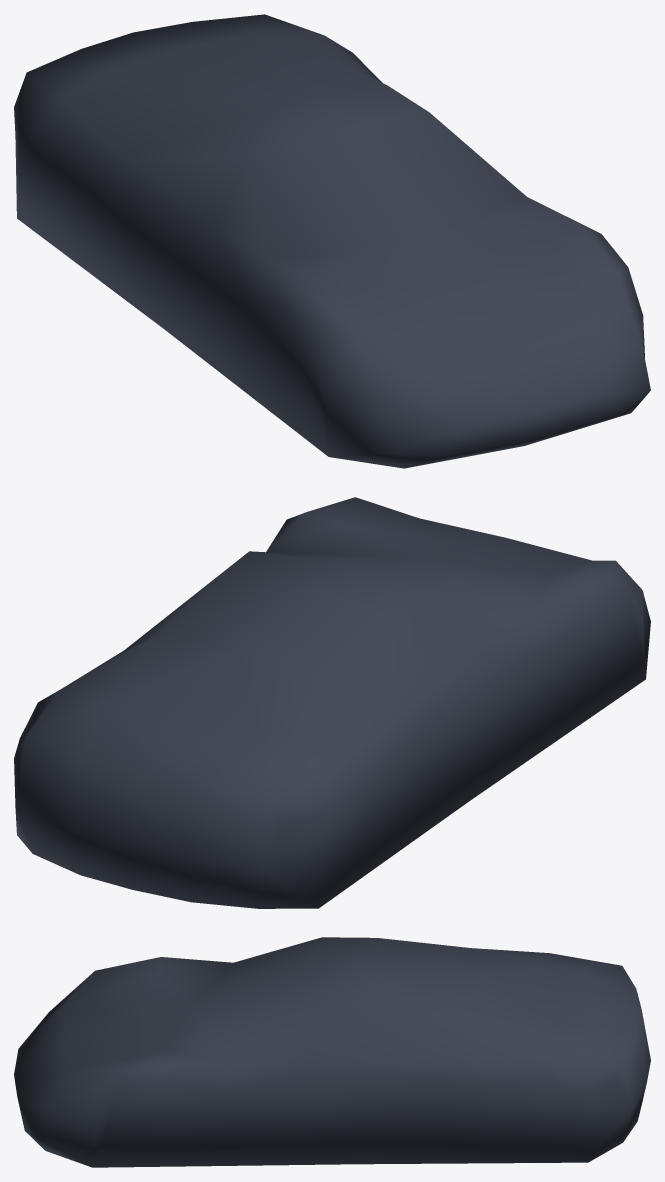
The model's file is RealisticCar06_HD_CollisionMesh.FBX.
3 views of the same model, one above another, from view 1: azimuth 30°, elevation 25°; view 2: azimuth 150°, elevation 25°; view 3: azimuth 270°, elevation 25° (orthographic). The views are drawn at different scales.
Visible parts, largest first — view 1: RealisticCar06_HD_CollisionMesh; view 2: RealisticCar06_HD_CollisionMesh; view 3: RealisticCar06_HD_CollisionMesh.
Boxes of the visible parts, bbox=[...] form: RealisticCar06_HD_CollisionMesh: bbox=[14, 14, 650, 468]; RealisticCar06_HD_CollisionMesh: bbox=[14, 497, 650, 908]; RealisticCar06_HD_CollisionMesh: bbox=[14, 937, 650, 1167].
Bounding box in the file's own units: 2.07 × 4.6 × 1.15.
